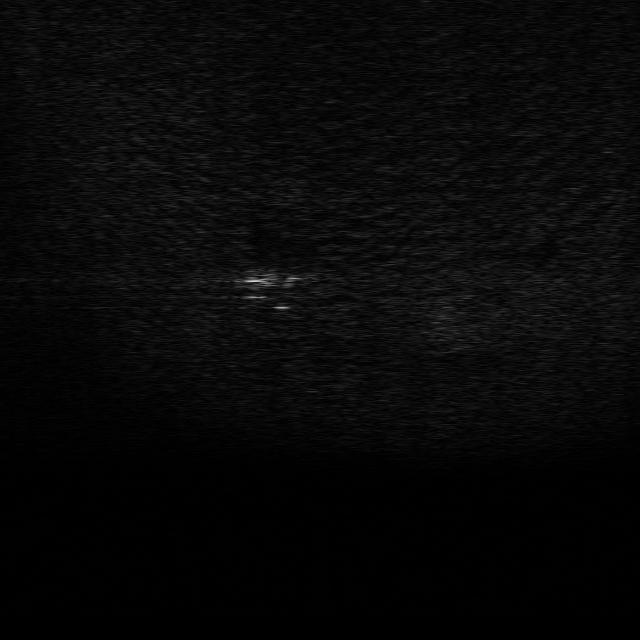plane: (238, 264, 322, 312)
